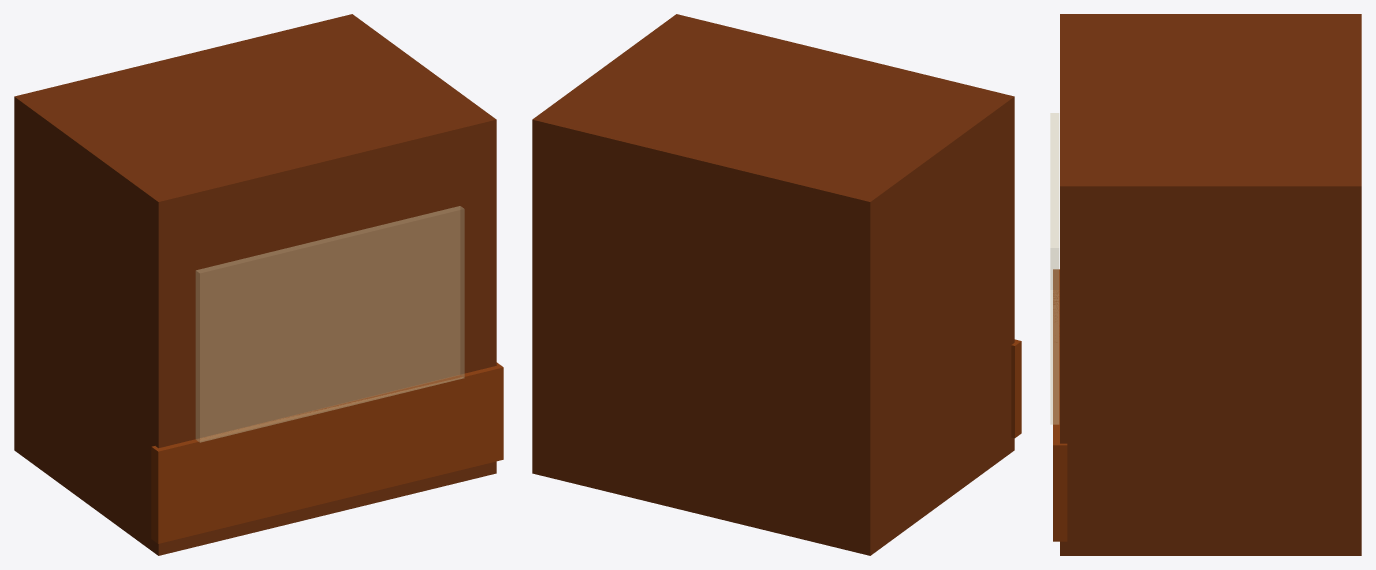
File: bookstore.glb
The picture shows the model from 3 angles, left to right: view 1: azimuth 30°, elevation 25°; view 2: azimuth 150°, elevation 25°; view 3: azimuth 270°, elevation 25°; orthographic projection. The views are drawn at different scales.
Bounding box in the file's own units: 1.77 × 1.73 × 1.32.
